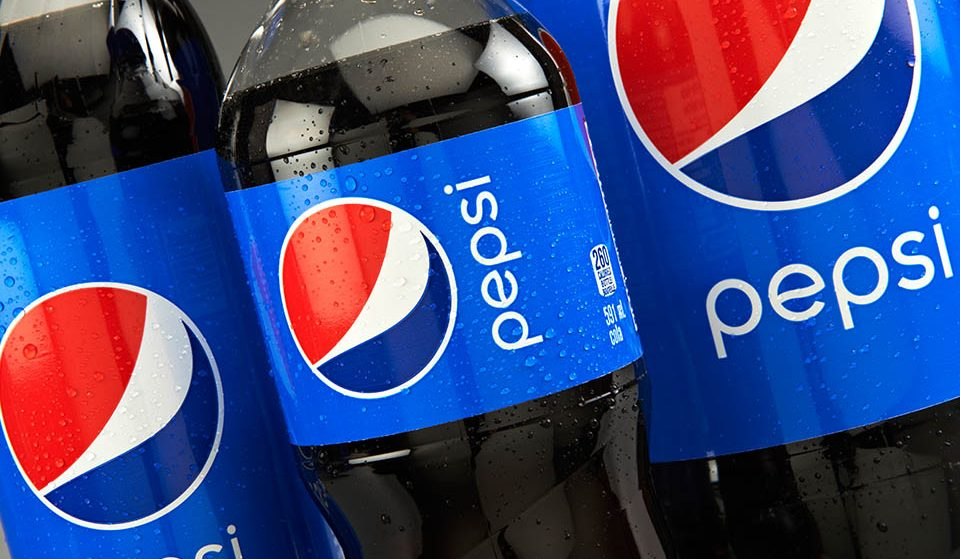pepsi: (605, 0, 921, 209), (605, 0, 921, 196), (605, 0, 910, 196), (0, 280, 222, 530), (0, 280, 222, 524), (0, 287, 222, 524), (265, 197, 457, 397), (265, 206, 457, 397)
